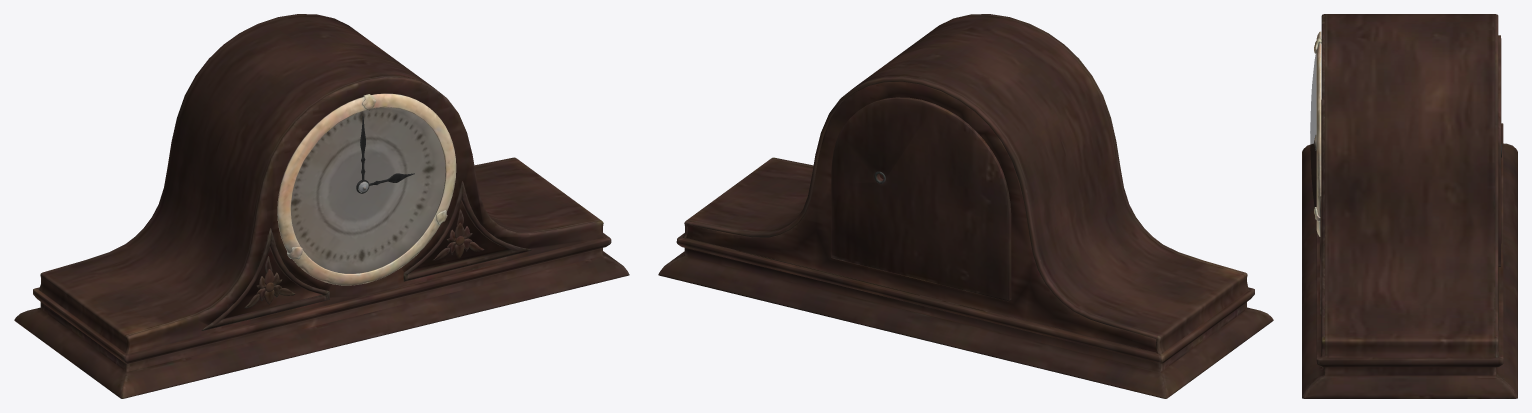
File: mantel_clock_01.57711d82.glb
3 views of the same model, side by side, from view 1: azimuth 30°, elevation 25°; view 2: azimuth 150°, elevation 25°; view 3: azimuth 270°, elevation 25° (orthographic).
Parts seen in each view (by area): view 1: mantel_clock_01, mantel_clock_01_glass; view 2: mantel_clock_01; view 3: mantel_clock_01, mantel_clock_01_glass.
Part boxes in pixels (x1,y1,x2,y2): mantel_clock_01: (14,14,629,398); mantel_clock_01_glass: (291,107,445,273); mantel_clock_01: (658,14,1273,398); mantel_clock_01: (1302,14,1517,398); mantel_clock_01_glass: (1310,53,1316,206).
Size of the model in its own units: 0.95 by 0.4454 by 0.3498.
Materials: 2 (2 with a texture image).
